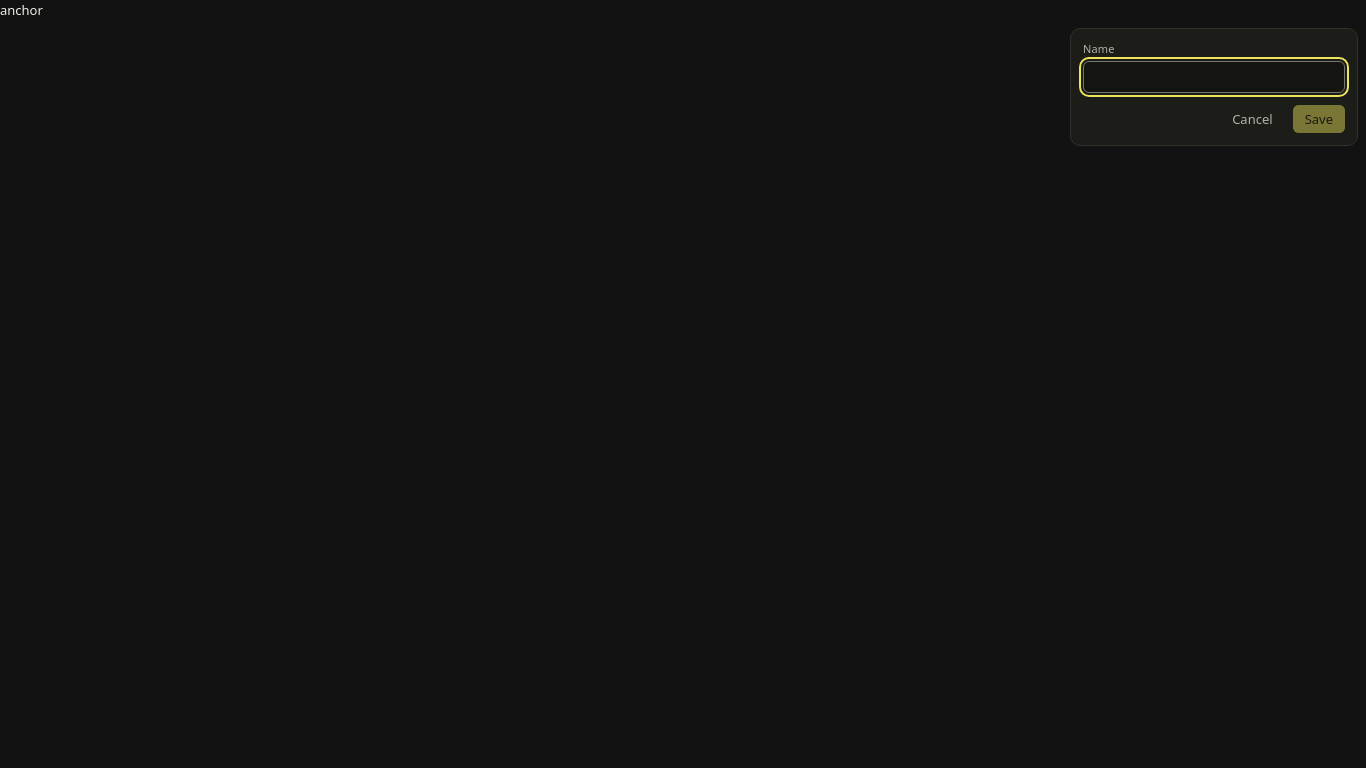
Test: saving the playlist under a name › says what the backend refused, and stays open
Type "Empty" into the field labelled "Name" at (1214, 77), box [1083,61,1345,93]
Then press Enter
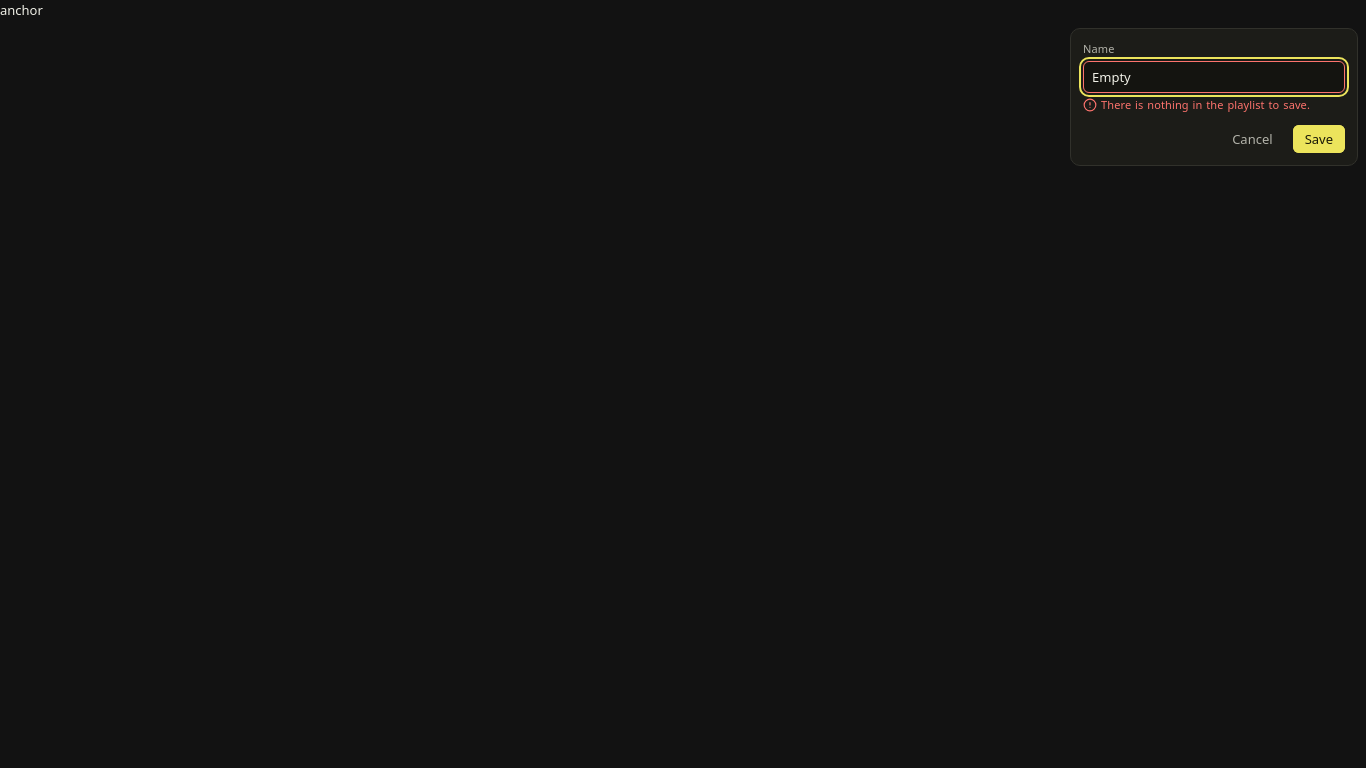
Expected: the message reads "There is nothing in the playlist to save.", [1101,97,1310,112]
# Typing again takes the complaint away.
Type "!" into the field labelled "Name" at (1214, 77), box [1083,61,1345,93]
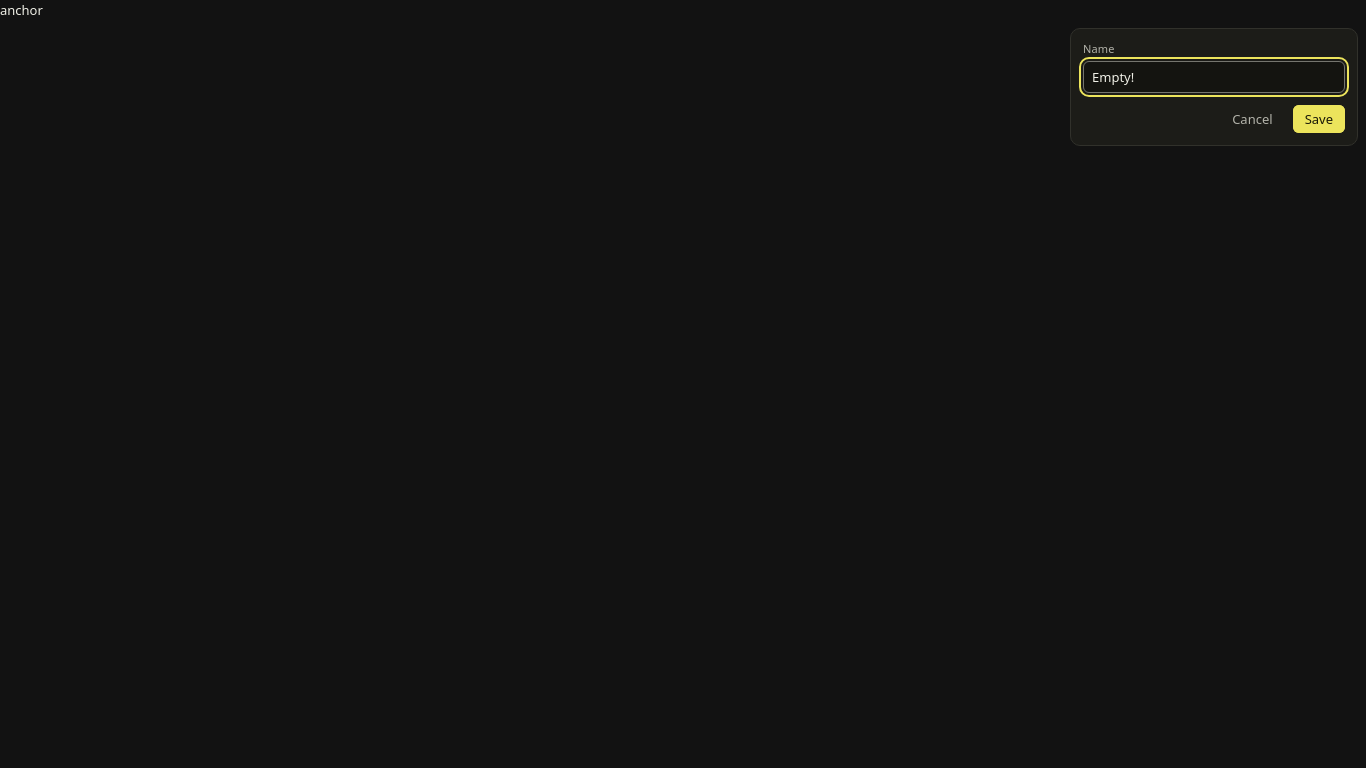
Expected: the message "There is nothing in the playlist to save." is gone
